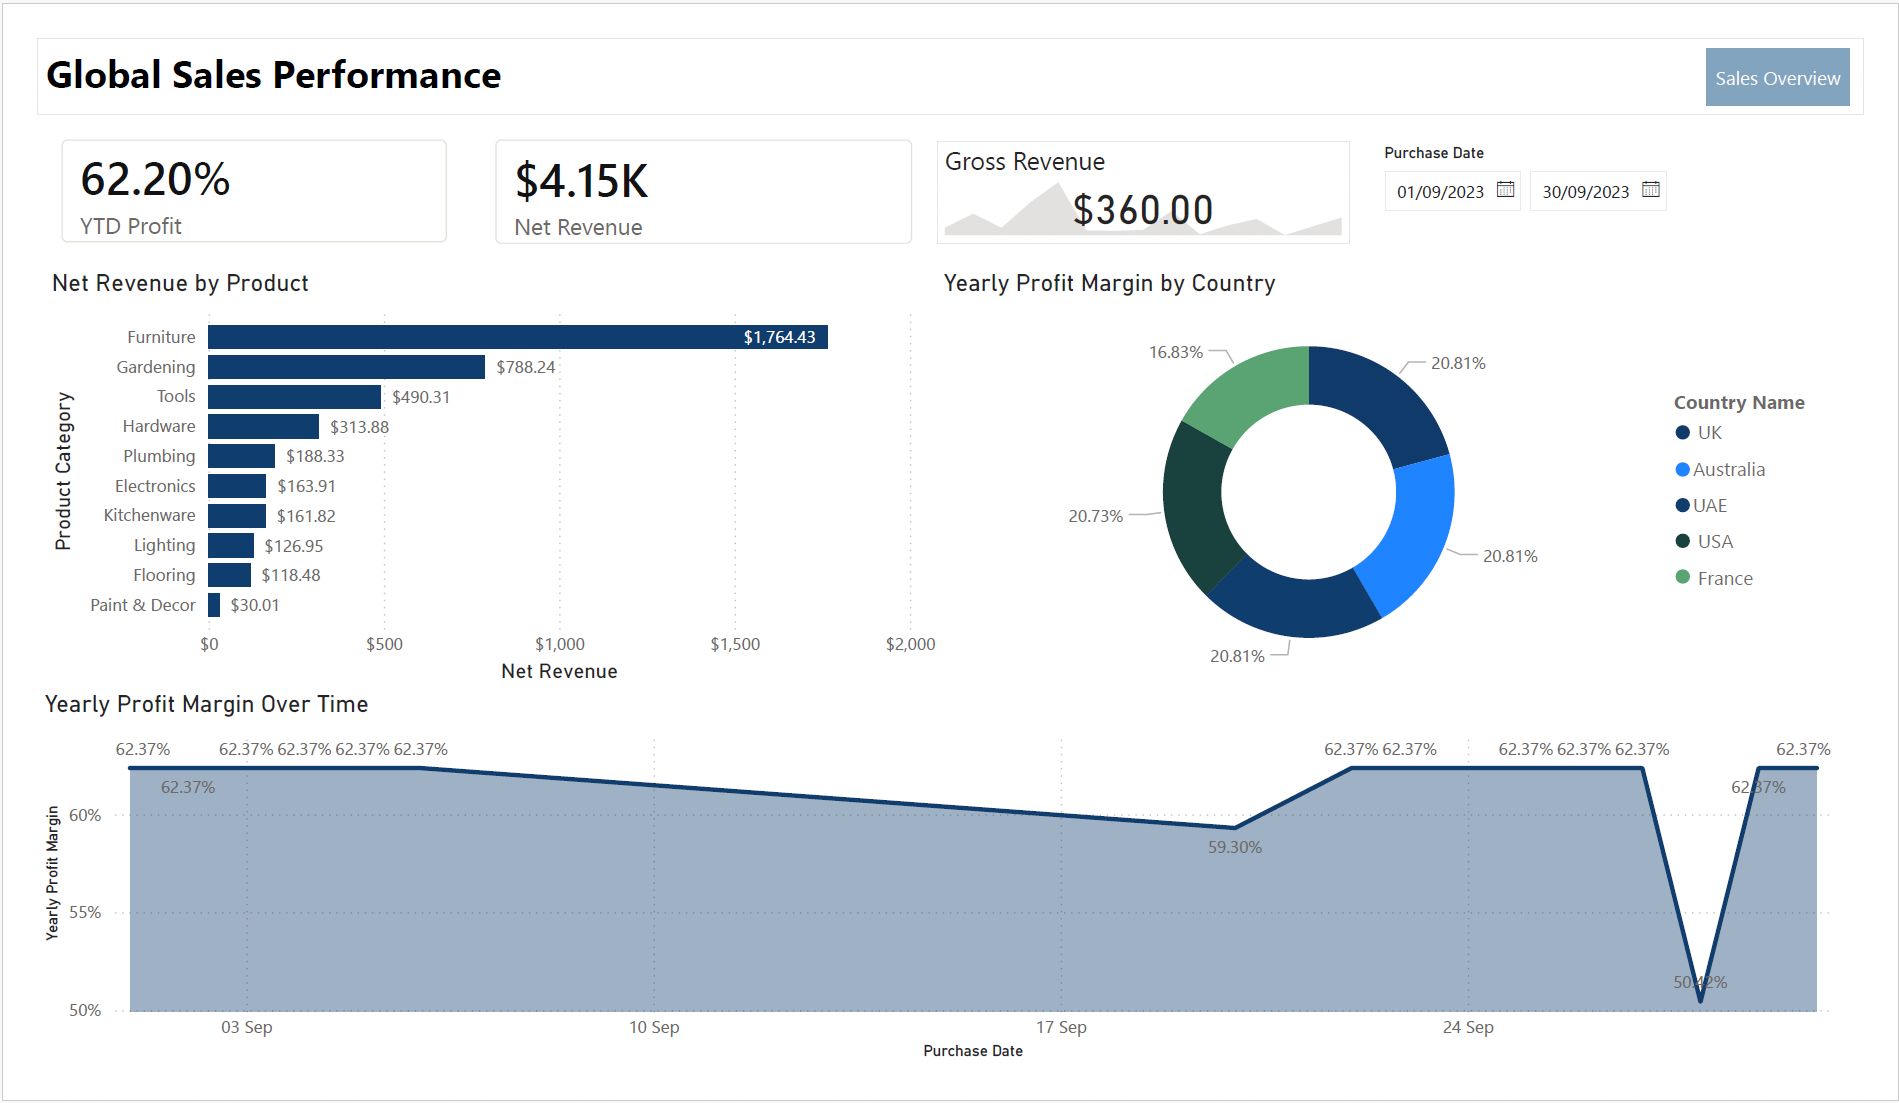

This screenshot's page, from the dashboard's own definition file:
{"tool":"powerbi","page":{"name":"Profit Overview","canvas":[1280,720],"ordinal":1},"visuals":[{"type":"clusteredBarChart","title":"Net Revenue by Product ","fields":{"Y":["Sum(Sales in USD.Net Revenue USD)"],"Category":["Sales in USD.Product Category"]},"box":[5,161,630,295],"z":0},{"type":"donutChart","title":"Yearly Profit Margin by Country","fields":{"Category":["Sales in USD.Country Name"],"Y":["Sales in USD.Yearly Profit Margin"]},"box":[630,161,630,295],"z":1000},{"type":"areaChart","title":"Yearly Profit Margin Over Time","fields":{"Category":["Purchases. Purchase Date"],"Y":["Sales in USD.Yearly Profit Margin"]},"box":[0,456,1270,264],"z":2000},{"type":"cardVisual","fields":{"Data":["Sales in USD.YTD Profit"]},"box":[0,54,304,106],"z":3000},{"type":"cardVisual","fields":{"Data":["Sum(Sales in USD.Net Revenue USD)"]},"box":[304,54,326,107],"z":4000},{"type":"kpi","title":" Gross Revenue","fields":{"Indicator":["Sum(Sales in USD.Gross Revenue USD)"],"TrendLine":["Purchases. Purchase Date"]},"box":[630,72,290,72],"z":5000},{"type":"slicer","fields":{"Values":["Purchases. Purchase Date"]},"box":[931,69,349,76],"z":6000},{"type":"textbox","box":[0,0,1280,54],"z":7000},{"type":"actionButton","box":[1170,7,100,40],"z":8000}]}

Visuals, with their boxes on the page's 1280x720 design canvas (x1, y1, x2, y2). These are canvas units, not pixel positions in the 1899x1103 screenshot, which may show the page scaled, cropped or inside an application window:
"Net Revenue by Product " clusteredBarChart: [left=5, top=161, right=635, bottom=456]
"Yearly Profit Margin by Country" donutChart: [left=630, top=161, right=1260, bottom=456]
"Yearly Profit Margin Over Time" areaChart: [left=0, top=456, right=1270, bottom=720]
cardVisual - Sales in USD.YTD Profit: [left=0, top=54, right=304, bottom=160]
cardVisual - Sum(Sales in USD.Net Revenue USD): [left=304, top=54, right=630, bottom=161]
" Gross Revenue" kpi: [left=630, top=72, right=920, bottom=144]
slicer - Purchases. Purchase Date: [left=931, top=69, right=1280, bottom=145]
textbox: [left=0, top=0, right=1280, bottom=54]
actionButton: [left=1170, top=7, right=1270, bottom=47]
